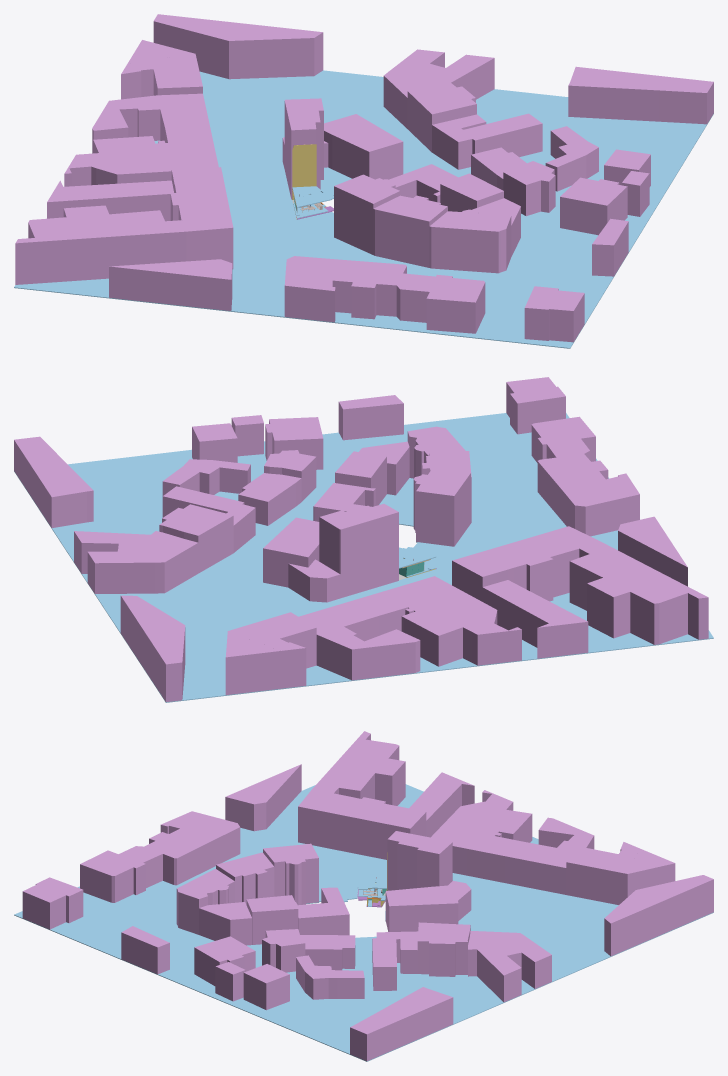
File: 014e1fb5-0f9d-44c7-96e2-6e1cadc24124.glb
The picture shows the model from 3 angles, top to bottom: view 1: azimuth 30°, elevation 25°; view 2: azimuth 150°, elevation 25°; view 3: azimuth 270°, elevation 25°; orthographic projection. The views are drawn at different scales.
Visible parts, largest first — view 1: 21459, 21464, 5077; view 2: 21459, 21464; view 3: 21459, 21464.
Boxes of the visible parts, left/top/right/bottom form: 21459: left=15, top=14, right=713, bottom=342; 21464: left=14, top=70, right=713, bottom=348; 5077: left=292, top=144, right=316, bottom=219; 21459: left=14, top=377, right=708, bottom=701; 21464: left=14, top=413, right=713, bottom=702; 21459: left=22, top=731, right=713, bottom=1060; 21464: left=14, top=784, right=713, bottom=1061.
Bounding box in the file's own units: 212 × 23.21 × 212.
